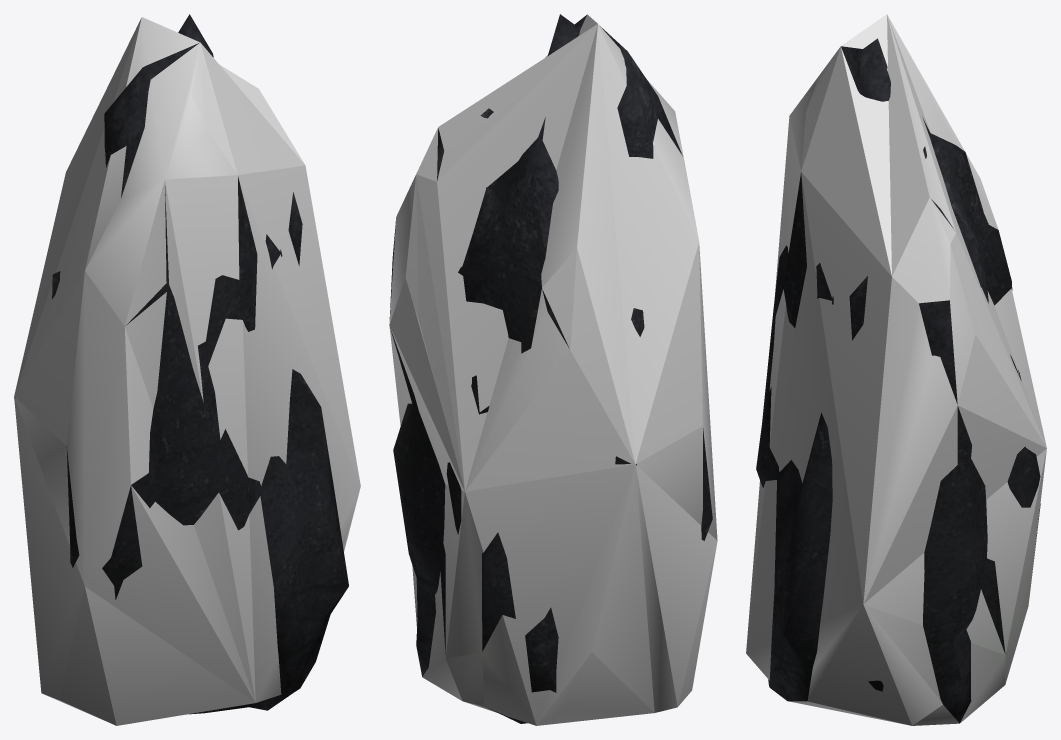
File: shore_rock_e_seastack.glb
3 renders of one model, left to right at view 1: azimuth 30°, elevation 25°; view 2: azimuth 150°, elevation 25°; view 3: azimuth 270°, elevation 25°, orthographic. The views are drawn at different scales.
Parts seen in each view (by area): view 1: col_shore_rock_e_seastack, shore_rock_e_seastack; view 2: col_shore_rock_e_seastack, shore_rock_e_seastack; view 3: col_shore_rock_e_seastack, shore_rock_e_seastack.
Boxes of the visible parts, left/top/right/bottom form: col_shore_rock_e_seastack: left=14, top=17, right=360, bottom=725; shore_rock_e_seastack: left=14, top=14, right=348, bottom=714; col_shore_rock_e_seastack: left=389, top=14, right=717, bottom=725; shore_rock_e_seastack: left=389, top=14, right=712, bottom=723; col_shore_rock_e_seastack: left=746, top=14, right=1046, bottom=725; shore_rock_e_seastack: left=756, top=38, right=1040, bottom=723.
Size of the model in its own units: 3.5 by 7.45 by 3.14.
Materials: 1 (1 with a texture image).
